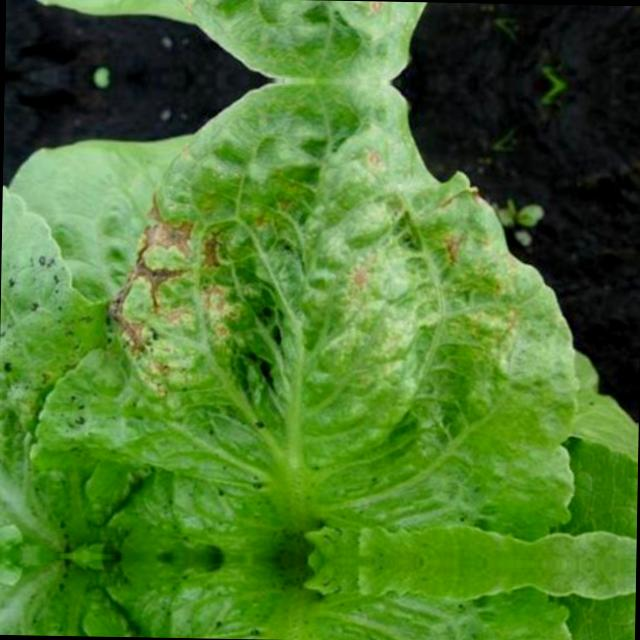Downy_mildew: (109, 81, 579, 468), (116, 0, 580, 79)
